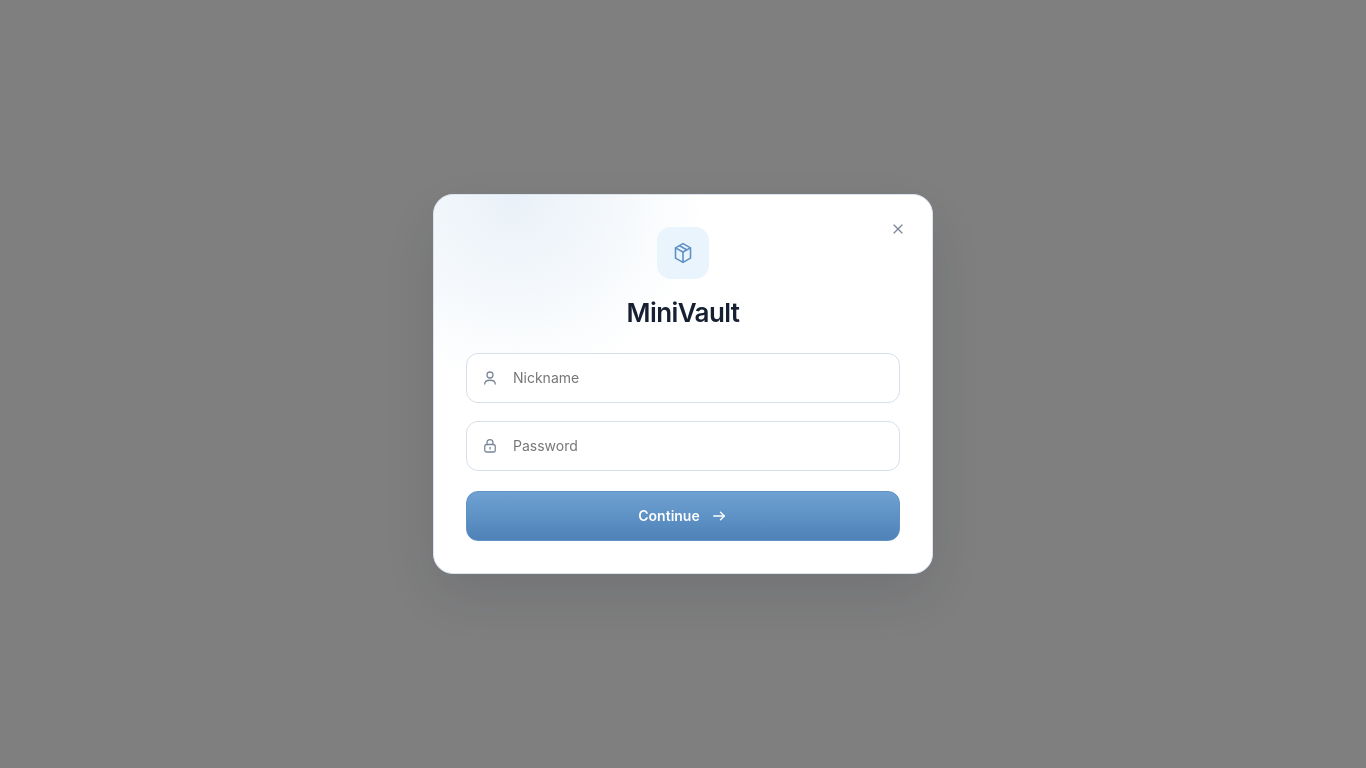
it: LoginModal › shows validation message when fields are empty
Click the button "Continue" at x=683, y=516, box [466,491,900,541]
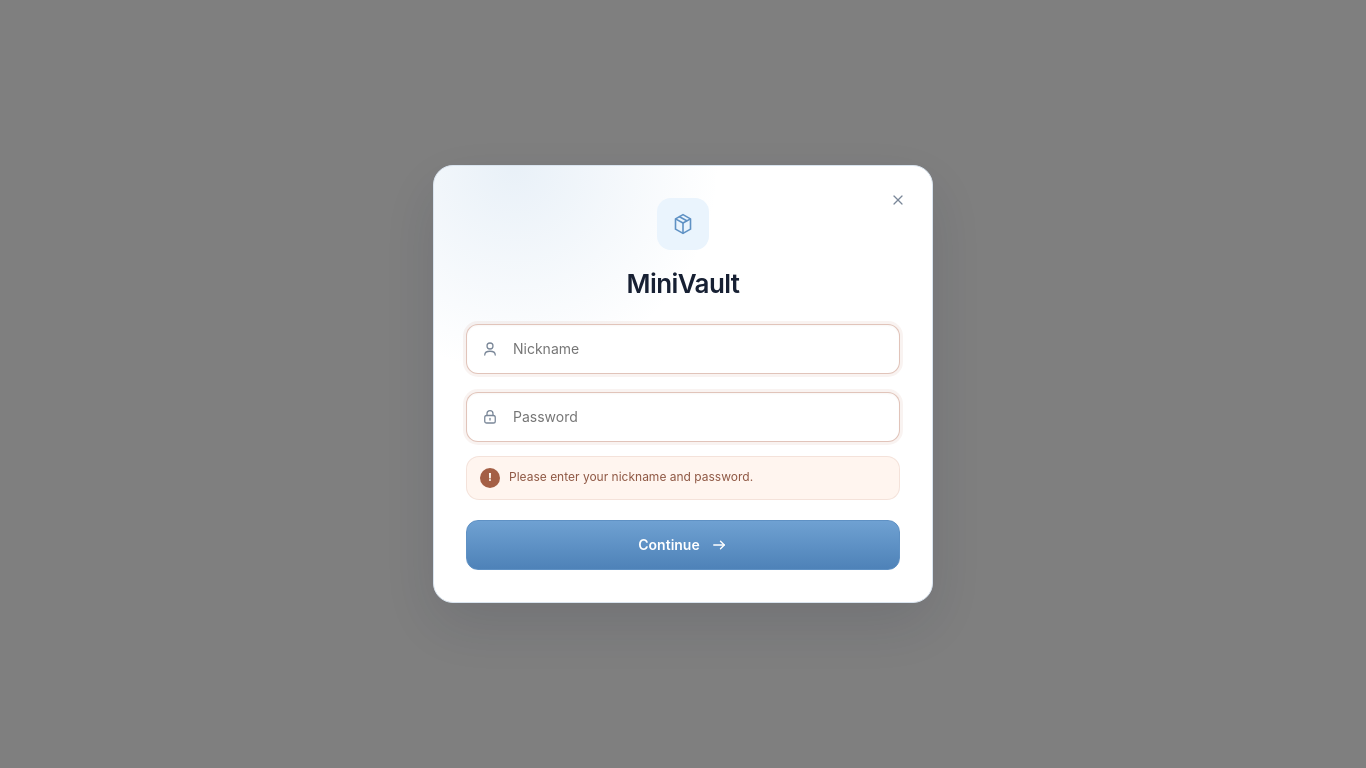
Result: the message shows "Please enter your nickname and password." at [509,469,753,484]
